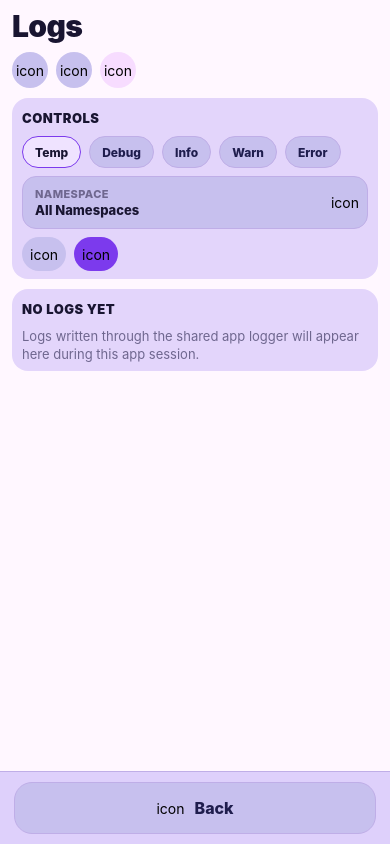
Test: LogsScreen › shows share all logs by default and only shows share visible logs for narrowed filters
Expected: the button with aria-label "Share All Logs" is shown, [74,237,118,271]
Click the button with aria-label "Filter logs at warn and above".
click(248, 152)  # box [219,136,277,168]
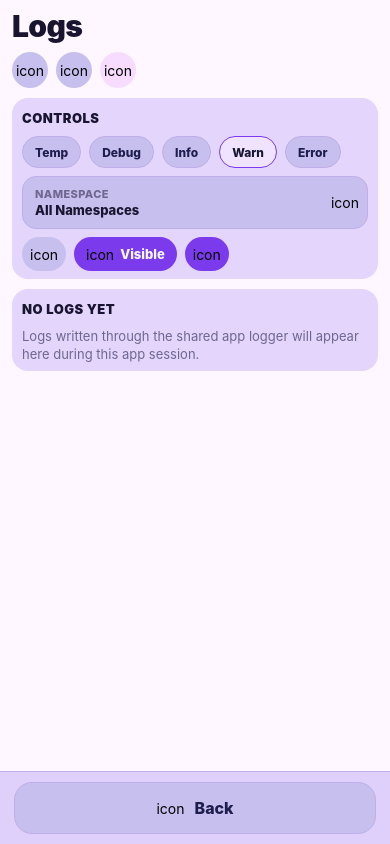
Expected: the button with aria-label "Share Visible Logs" is shown, [74,237,177,271]
Expected: the text "Visible" is shown, [120,246,165,262]
